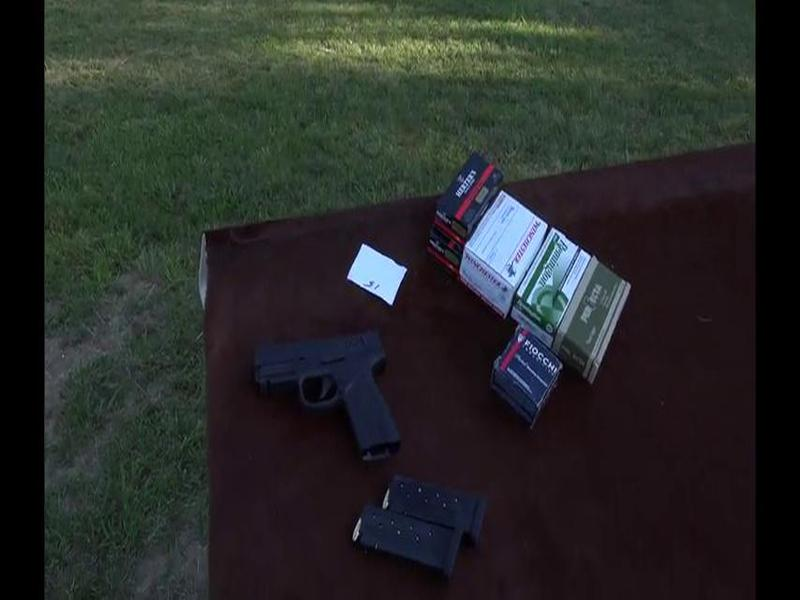Pistola: (240, 322, 409, 461)
